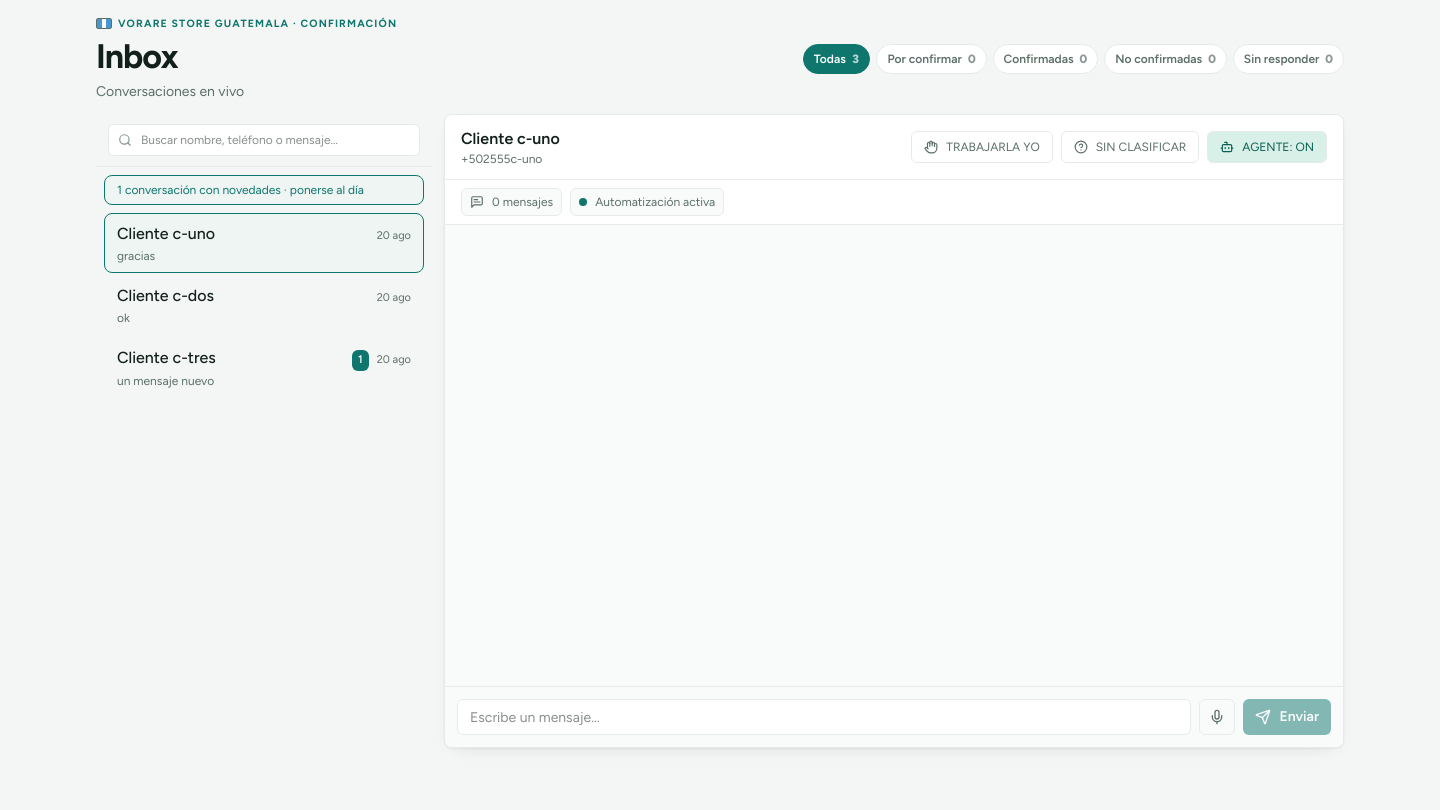
la lista no se reordena bajo el cursor › el aviso reordena cuando el asesor lo pide
Click the button "1 conversación con novedades · ponerse al día": (264, 190) [104,175,424,205]
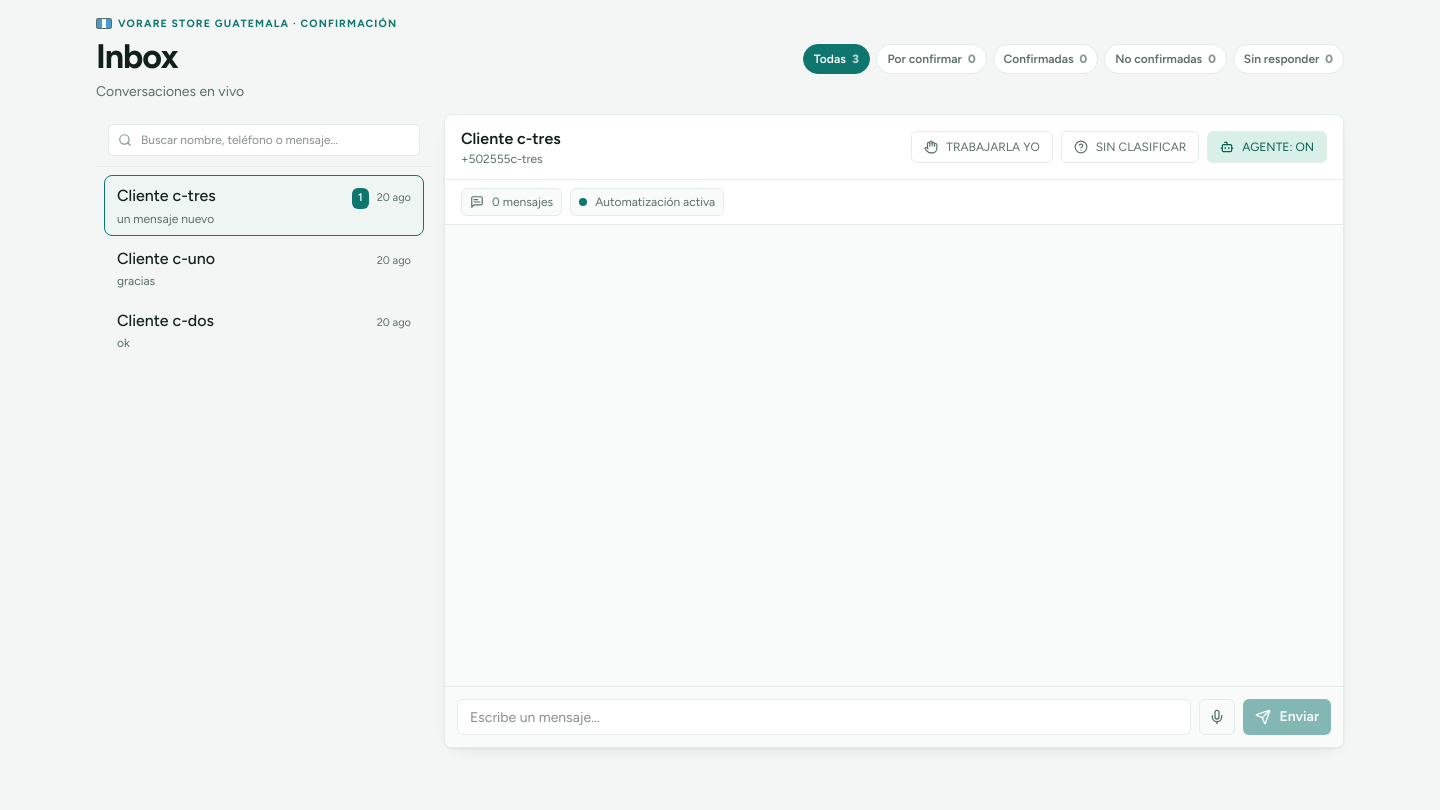
expect the button "novedades" is gone: met
